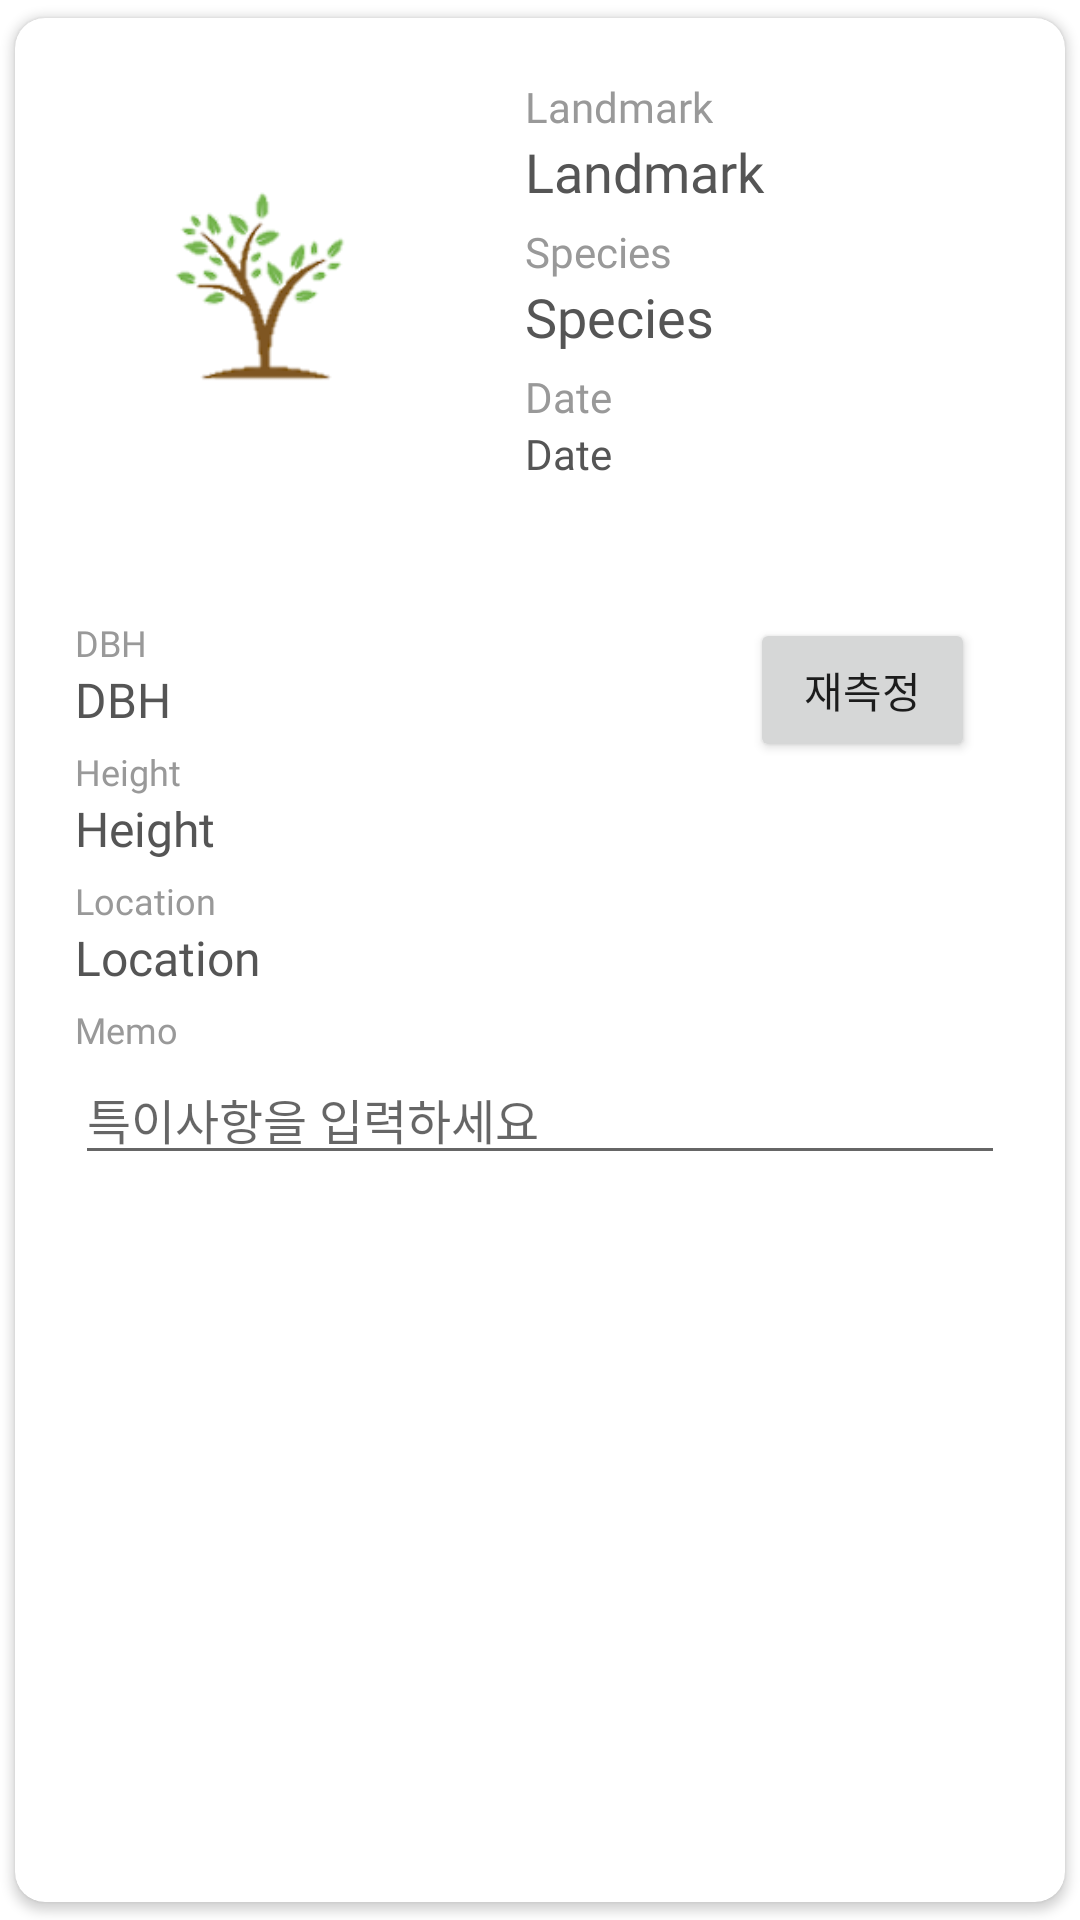

Icons on this 1080×1920 Android screen, each with the point to tap as (x=x, y=y):
treeicon: (x=260, y=286)
